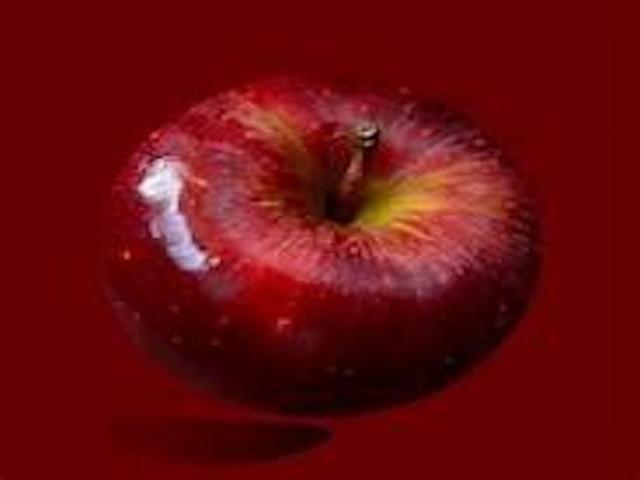apple: (94, 61, 556, 435)
